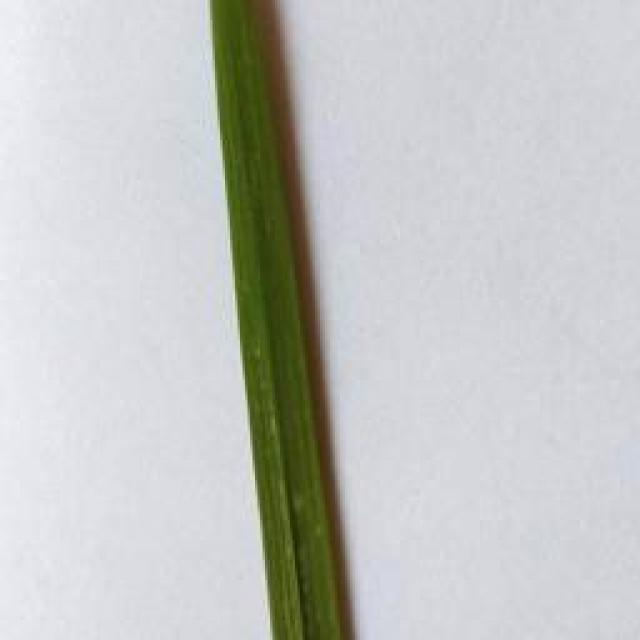Healthy-Plant: (209, 0, 342, 640)
